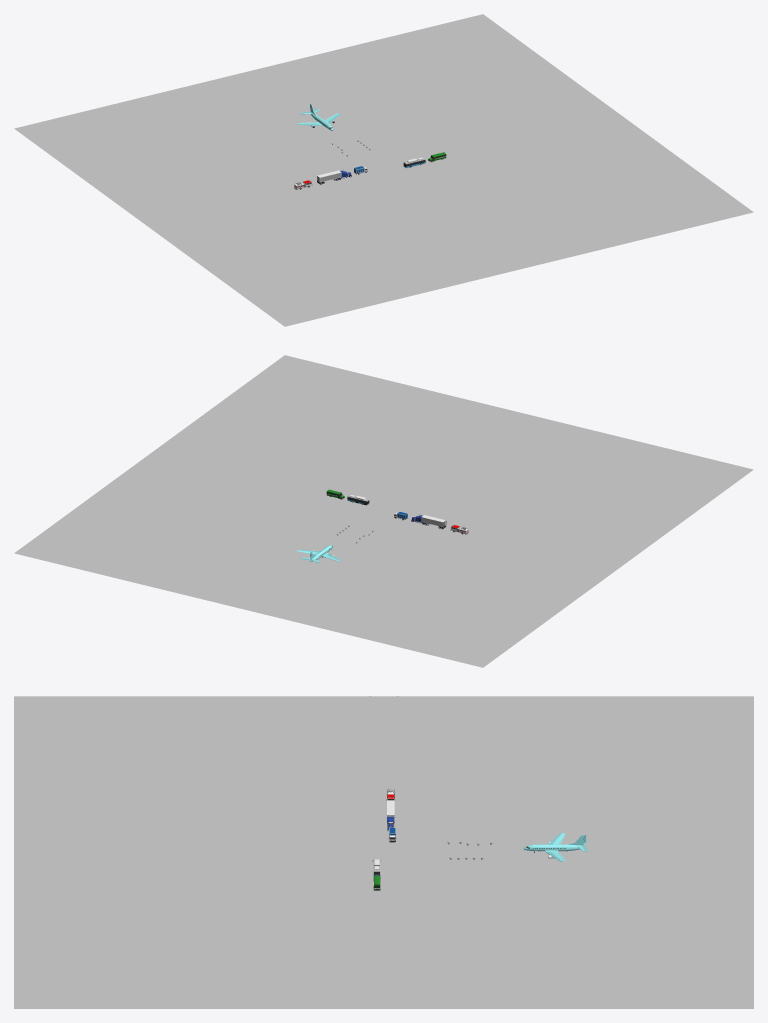
Rendered from changjing1_6.fbx.
The picture shows the model from 3 angles, top to bottom: view 1: azimuth 30°, elevation 25°; view 2: azimuth 150°, elevation 25°; view 3: azimuth 270°, elevation 25°; orthographic projection. The views are drawn at different scales.
Parts seen in each view (by area): view 1: changjing1_6; view 2: changjing1_6; view 3: changjing1_6, FeiJi4.
Boxes of the visible parts, x1,y1,x2,y2 form: changjing1_6: (14,14,753,326); changjing1_6: (14,355,753,667); changjing1_6: (14,696,753,1008); FeiJi4: (523,833,587,861).
Bounding box in the file's own units: 34371 × 893 × 34371.
